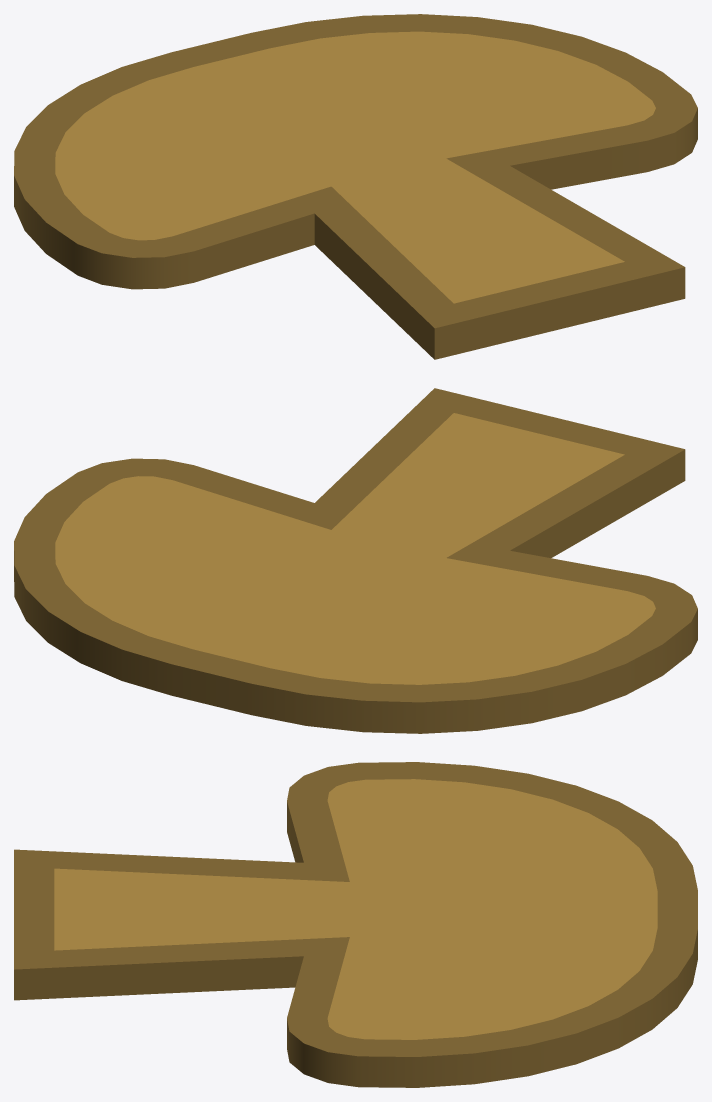
Rendered from Mushroom Slice A.fbx.
The picture shows the model from 3 angles, top to bottom: view 1: azimuth 30°, elevation 25°; view 2: azimuth 150°, elevation 25°; view 3: azimuth 270°, elevation 25°; orthographic projection.
Parts seen in each view (by area): view 1: Mushroom Slice A; view 2: Mushroom Slice A; view 3: Mushroom Slice A.
Boxes of the visible parts, <box> form: Mushroom Slice A: <box>14,14,697,359</box>; Mushroom Slice A: <box>14,388,697,733</box>; Mushroom Slice A: <box>14,762,697,1087</box>.
Bounding box in the file's own units: 0.2041 × 0.00996 × 0.2.
